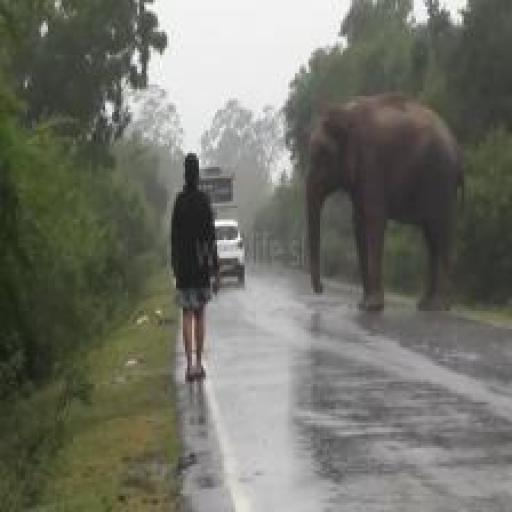Elephant: (290, 80, 489, 342)
